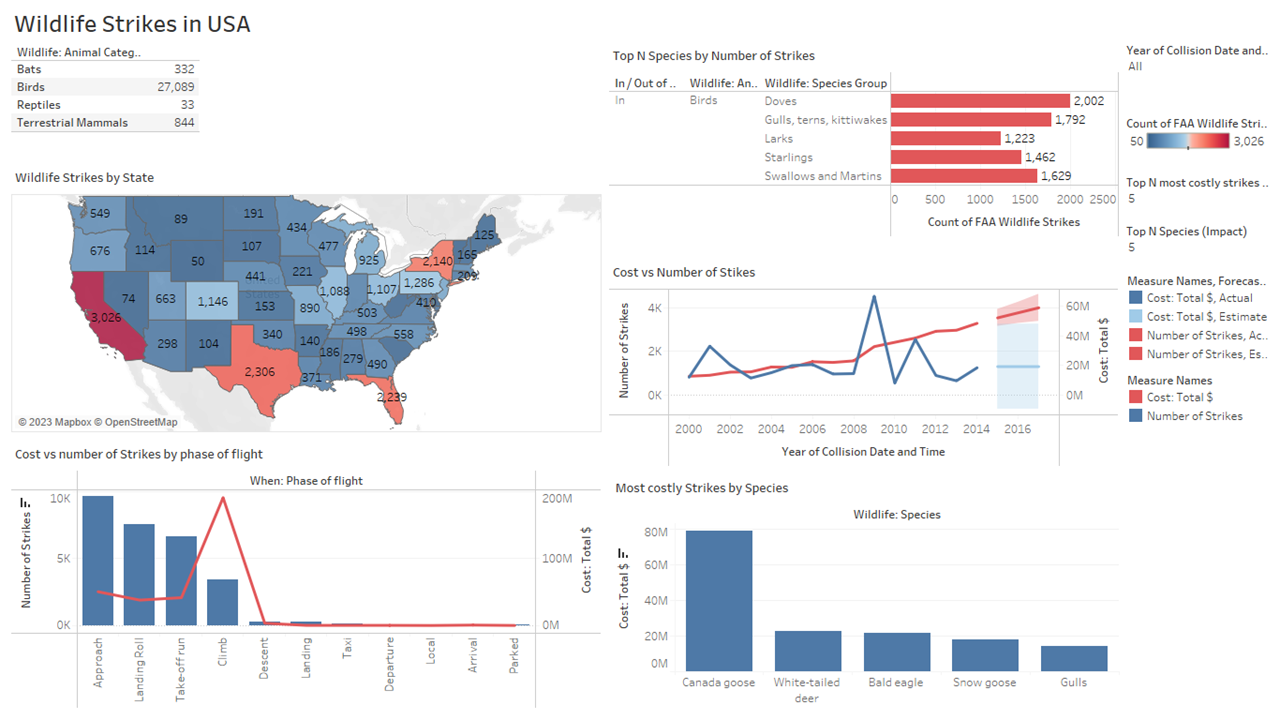

The page's visual inventory and layout, read from the dashboard file:
{"tool":"tableau","page":{"name":"Dashboard ","canvas":[1366,768],"ordinal":0},"visuals":[{"type":"title","box":[8,8,1350,32]},{"type":"worksheet","title":"5. Count by Animal Category","mark":"Automatic","rows":[" Animal Category"],"box":[8,40,638,130.2]},{"type":"worksheet","title":"2. Top N Species by Number of Strikes","mark":"Automatic","rows":[" Species Set"," Animal Category"," Species Group"],"cols":["FAA Wildlife Strikes_7B6C5D9288074901938AB43FBAC04DD8"],"box":[646,40,552,230.7]},{"type":"filter","title":"1. Wildlife Strikes by State","param":"[federated.1rc30oq1wjavbs13qtom21avo9uh].[yr:Collision Date and Time:ok]","box":[1198,40,160,75]},{"type":"legend","title":"1. Wildlife Strikes by State","param":"[federated.1rc30oq1wjavbs13qtom21avo9uh].[__tableau_internal_object_id__].[cnt:F","box":[1198,115,160,65]},{"type":"worksheet","title":"1. Wildlife Strikes by State","mark":"Automatic","box":[8,170.2,638,294.9]},{"type":"parameter","param":"[Parameters].[Parameter 2]","box":[1198,180,160,52]},{"type":"parameter","param":"[Parameters].[Parameter 1]","box":[1198,232,160,52]},{"type":"worksheet","title":"3. Cost vs Number of Stikes","mark":"Automatic","rows":["Number of Strikes"," Total $"],"cols":["Collision Date and Time"],"box":[646,270.7,552,230.7]},{"type":"legend","title":"3. Cost vs Number of Stikes","param":"[federated.1rc30oq1wjavbs13qtom21avo9uh].[:Measure Names]\n[federated.1rc30oq1wja","box":[1198,284,160,106]},{"type":"legend","title":"6. Cost incurred & number of strikes by phase of flight ","param":"[federated.1rc30oq1wjavbs13qtom21avo9uh].[:Measure Names]","box":[1198,390,160,66]},{"type":"worksheet","title":"6. Cost incurred & number of strikes by phase of flight ","mark":"Bar","rows":["Number of Strikes"," Total $"],"cols":[" Phase of flight"],"box":[8,465.1,638,294.9]},{"type":"worksheet","title":"4. Most costly Strikes by Species","mark":"Automatic","rows":[" Total $"],"cols":[" Species"],"box":[646,501.5,552,258.5]}]}

Visuals, with their boxes in screenshot pixels (x1, y1, x2, y2), scaled from the page's 1366x768 canvas onto the 1280x720 screenshot:
title: bbox=(7, 8, 1273, 38)
"5. Count by Animal Category" worksheet: bbox=(7, 38, 605, 160)
"2. Top N Species by Number of Strikes" worksheet: bbox=(605, 38, 1123, 254)
"1. Wildlife Strikes by State" filter: bbox=(1123, 38, 1273, 108)
"1. Wildlife Strikes by State" legend: bbox=(1123, 108, 1273, 169)
"1. Wildlife Strikes by State" worksheet: bbox=(7, 160, 605, 436)
parameter: bbox=(1123, 169, 1273, 218)
parameter: bbox=(1123, 218, 1273, 266)
"3. Cost vs Number of Stikes" worksheet: bbox=(605, 254, 1123, 470)
"3. Cost vs Number of Stikes" legend: bbox=(1123, 266, 1273, 366)
"6. Cost incurred & number of strikes by phase of flight " legend: bbox=(1123, 366, 1273, 428)
"6. Cost incurred & number of strikes by phase of flight " worksheet (Bar marks): bbox=(7, 436, 605, 712)
"4. Most costly Strikes by Species" worksheet: bbox=(605, 470, 1123, 712)
